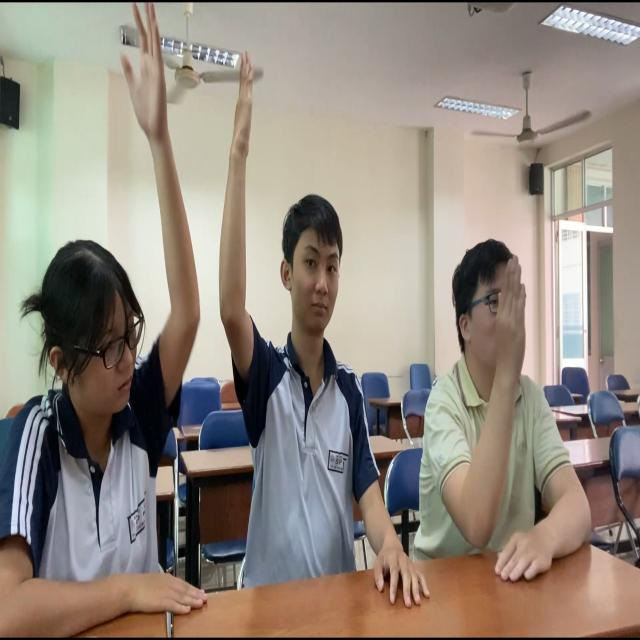raise_hand: (1, 1, 204, 634), (216, 41, 412, 610), (420, 220, 585, 584)
